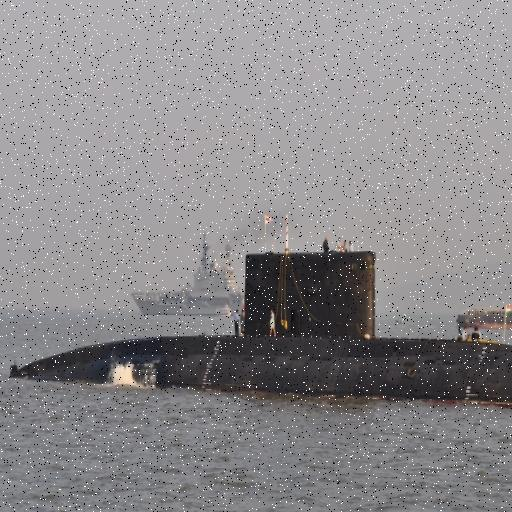submarine: (12, 250, 512, 408)
